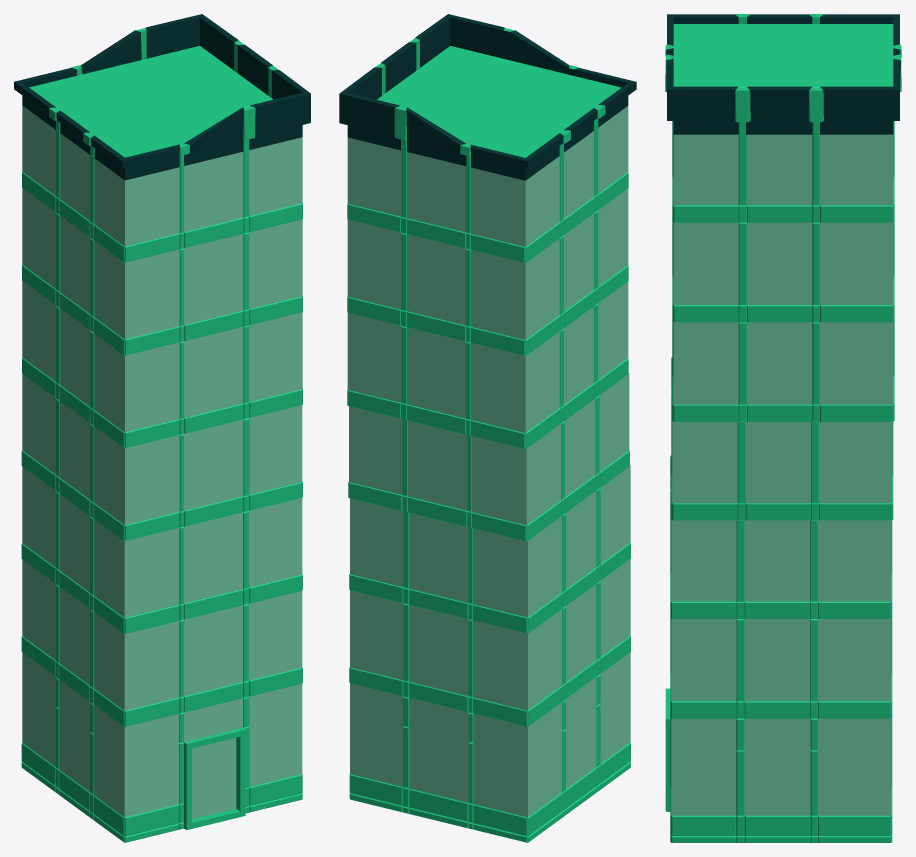
Rendered from largeBuilding_M_v2_athena.FBX.
3 renders of one model, left to right at view 1: azimuth 30°, elevation 25°; view 2: azimuth 150°, elevation 25°; view 3: azimuth 270°, elevation 25°, orthographic. The views are drawn at different scales.
Parts seen in each view (by area): view 1: building1; view 2: building1; view 3: building1.
Part boxes in pixels (box(x1,y1,x2,y2)): building1: box(14, 14, 310, 842); building1: box(339, 14, 636, 842); building1: box(665, 14, 901, 842).
Bounding box in the file's own units: 1076 × 3800 × 1076.
